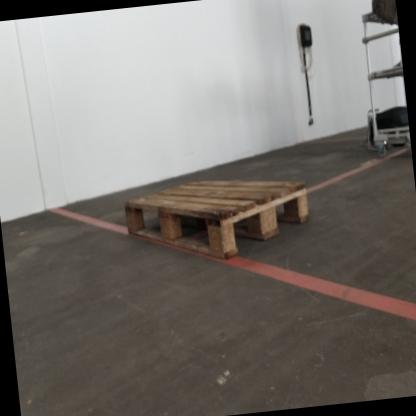BoxFace: (122, 173, 313, 263)
